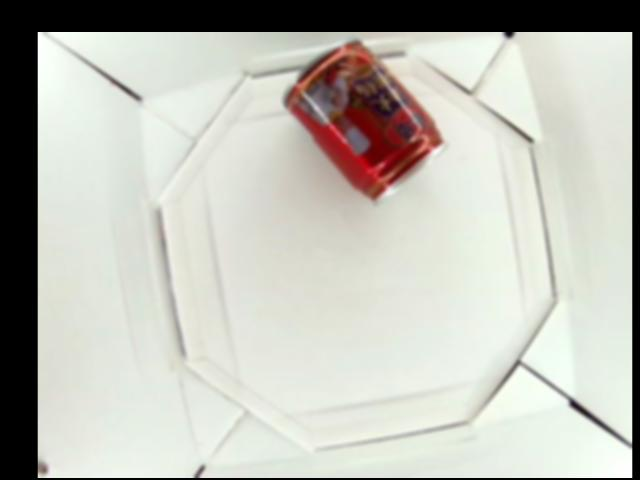Bottle: (280, 42, 444, 202)
